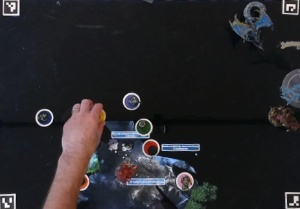blue: (33, 105, 54, 128)
green: (133, 118, 152, 135)
orange: (72, 172, 90, 193)
pink: (171, 168, 196, 192)
red: (139, 137, 162, 158)
violet: (120, 90, 141, 112)
yellow: (87, 104, 107, 125)
